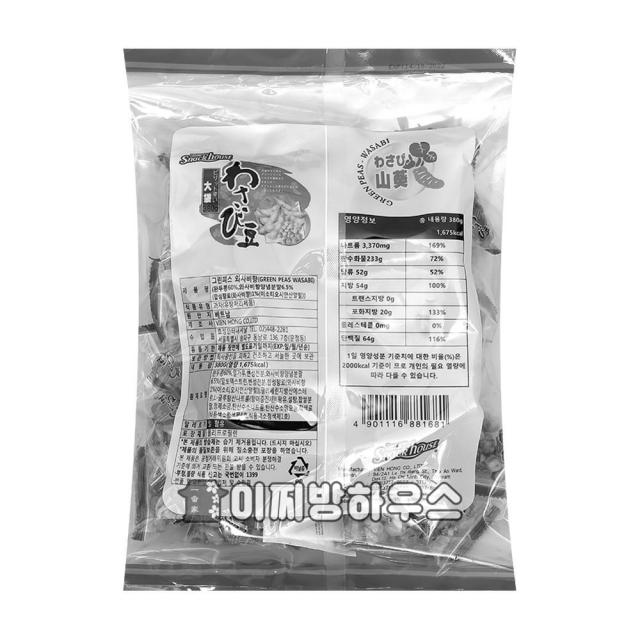Nutrition Label: (332, 205, 476, 393)
